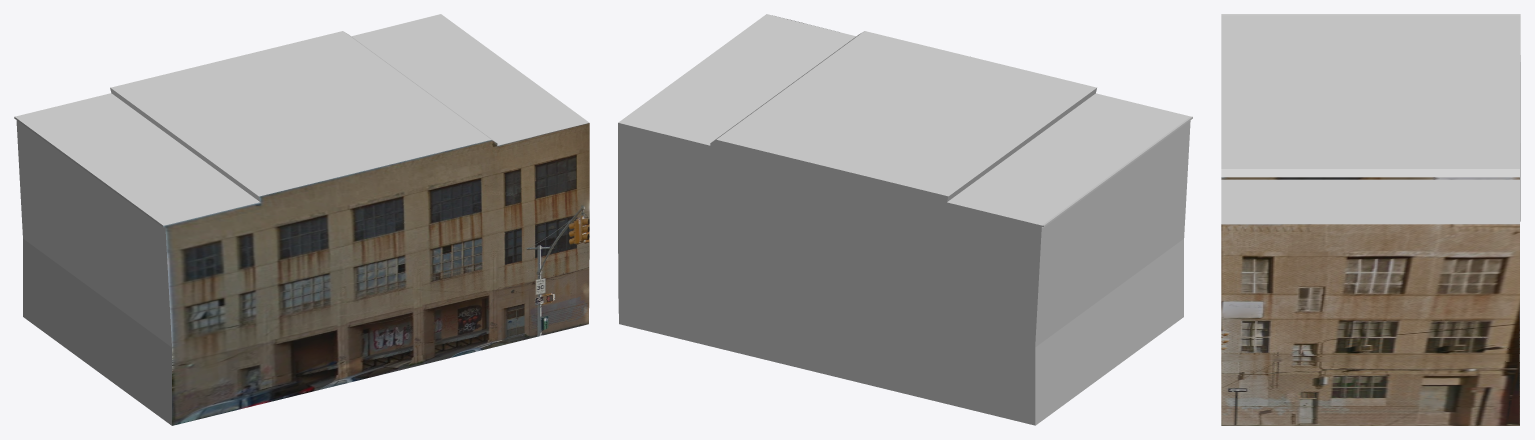
File: 3rd Street Post-Industrial Building.fbx
3 renders of one model, left to right at view 1: azimuth 30°, elevation 25°; view 2: azimuth 150°, elevation 25°; view 3: azimuth 270°, elevation 25°, orthographic.
Parts seen in each view (by area): view 1: Model; view 2: Model; view 3: Model.
Part boxes in pixels (left/top/right/bottom): Model: left=14, top=14, right=589, bottom=425; Model: left=618, top=14, right=1192, bottom=425; Model: left=1221, top=14, right=1520, bottom=425.
Bounding box in the file's own units: 333 × 155 × 202.
